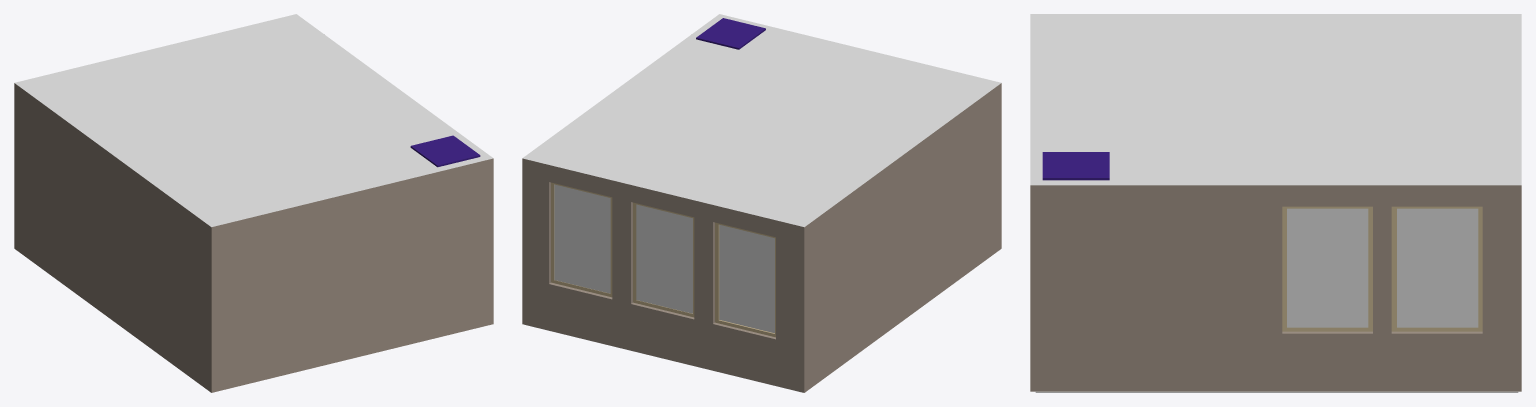
The model's file is печь с пультом.fbx.
The picture shows the model from 3 angles, left to right: view 1: azimuth 30°, elevation 25°; view 2: azimuth 150°, elevation 25°; view 3: azimuth 270°, elevation 25°; orthographic projection. The views are drawn at different scales.
Visible parts, largest first — view 1: Extrude_NURBS, Cap_2, ventil; view 2: Extrude_NURBS, Cap_2, Cube.034, Cube.036, Cube.035, ventil, Cube.031, Cube.039, Cube.1, Cube.040; view 3: Cap_2, Extrude_NURBS, Cube.032, Cube.033, Cube.038, ventil, Cube.037, flor_niz, Cube.031.
Boxes of the visible parts, left/top/right/bottom form: Extrude_NURBS: left=14, top=83, right=493, bottom=392; Cap_2: left=14, top=14, right=493, bottom=227; ventil: left=410, top=135, right=480, bottom=167; Extrude_NURBS: left=522, top=83, right=1001, bottom=392; Cap_2: left=522, top=14, right=1001, bottom=227; Cube.034: left=554, top=184, right=610, bottom=293; Cube.036: left=636, top=204, right=692, bottom=313; Cube.035: left=719, top=224, right=774, bottom=333; ventil: left=696, top=18, right=765, bottom=49; Cube.031: left=549, top=182, right=775, bottom=339; Cube.039: left=551, top=182, right=612, bottom=297; Cube.1: left=715, top=222, right=775, bottom=337; Cube.040: left=633, top=202, right=694, bottom=317; Cap_2: left=1030, top=14, right=1521, bottom=185; Extrude_NURBS: left=1030, top=185, right=1521, bottom=391; Cube.032: left=1287, top=208, right=1368, bottom=327; Cube.033: left=1397, top=208, right=1478, bottom=327; Cube.038: left=1391, top=206, right=1482, bottom=331; ventil: left=1042, top=152, right=1109, bottom=180; Cube.037: left=1282, top=206, right=1372, bottom=331; flor_niz: left=1035, top=391, right=1518, bottom=392; Cube.031: left=1282, top=331, right=1482, bottom=333.
Bounding box in the file's own units: 950 × 543 × 1150.
